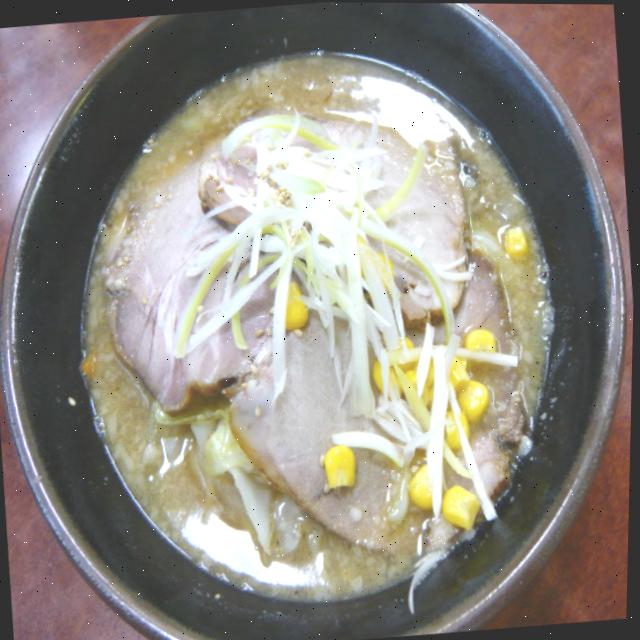面条主食: (56, 25, 579, 614)
